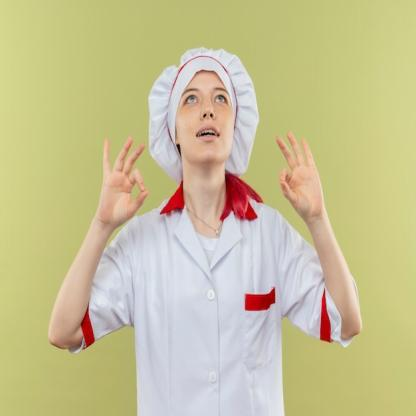ok: (97, 131, 150, 231), (274, 130, 326, 224)
